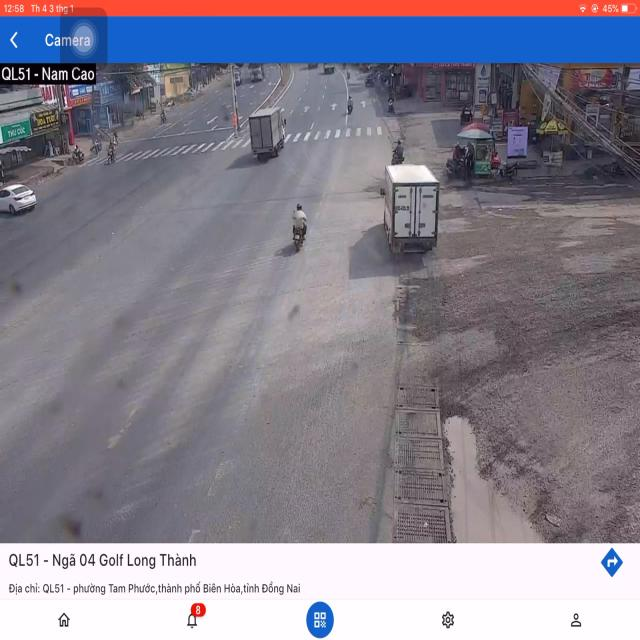car: (0, 181, 36, 216)
motorbike: (288, 203, 306, 257), (106, 134, 116, 165)
truck: (380, 162, 436, 255), (251, 105, 287, 164)
